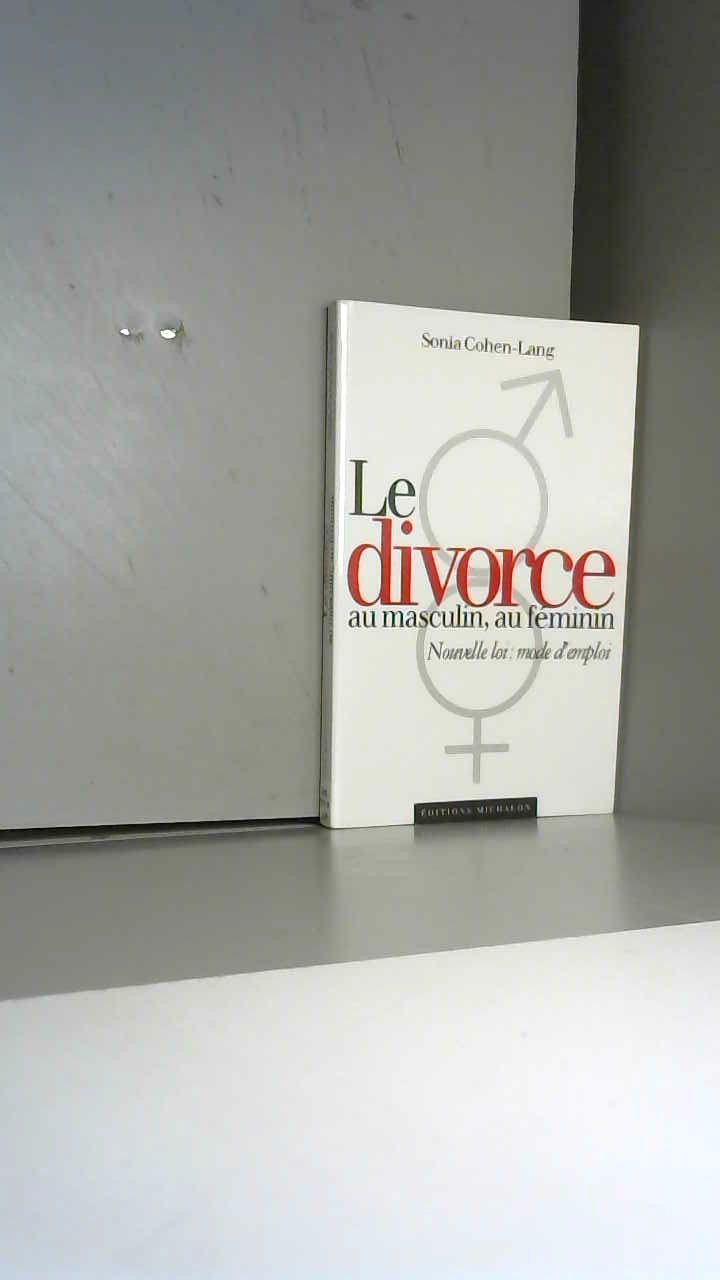book: (300, 280, 716, 911)
